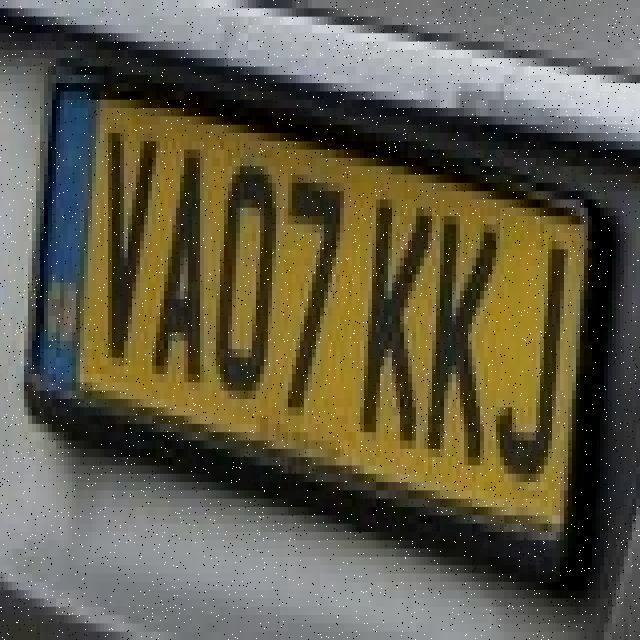LicensePlate: (20, 29, 610, 611)
